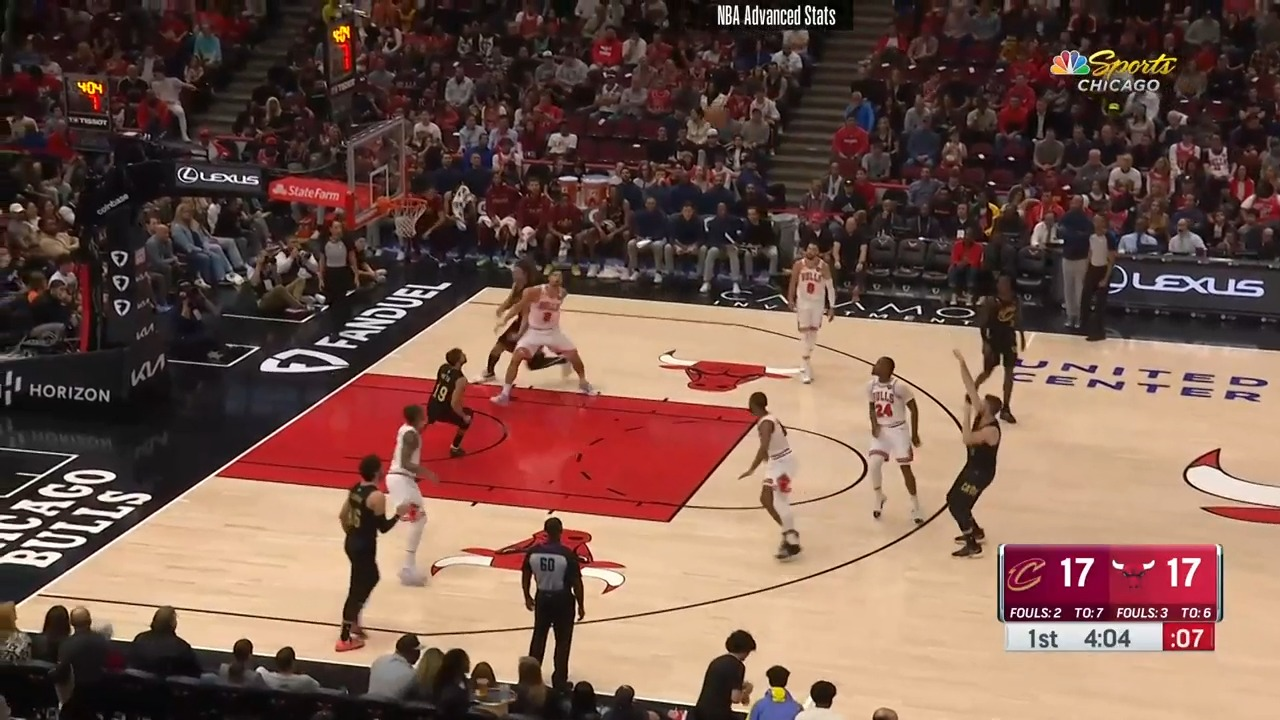net: (365, 190, 431, 237)
player: (929, 347, 1009, 561), (486, 268, 604, 405), (723, 386, 804, 568), (327, 448, 392, 653), (855, 350, 926, 524), (965, 273, 1027, 426), (479, 257, 544, 388), (785, 234, 840, 385), (387, 402, 432, 585), (420, 350, 479, 473)
referee: (492, 517, 599, 688), (1076, 210, 1121, 350), (316, 215, 363, 345)
